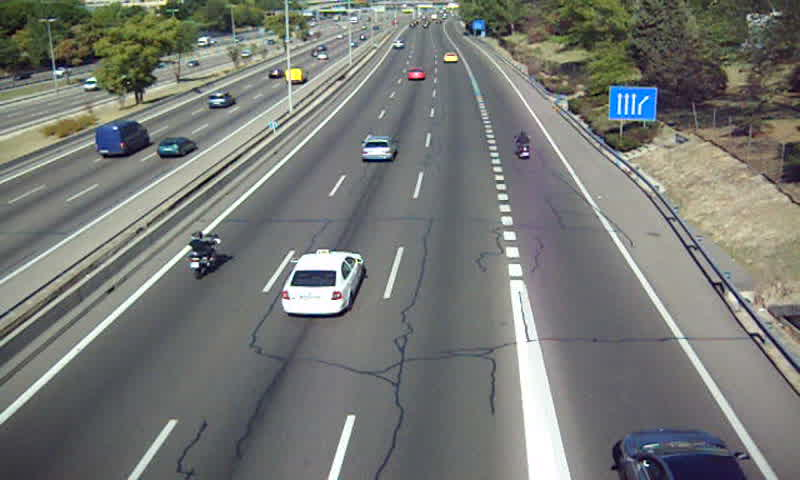car: (283, 251, 361, 316), (360, 137, 398, 163), (408, 67, 426, 83), (443, 52, 460, 63)
motorcycle: (187, 232, 221, 279), (514, 130, 531, 158)
